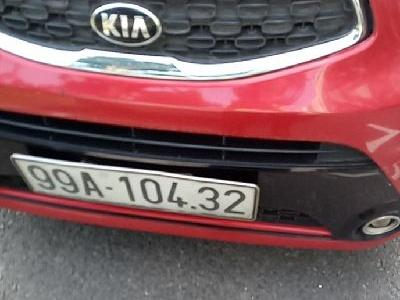lisence: (9, 153, 259, 223)
